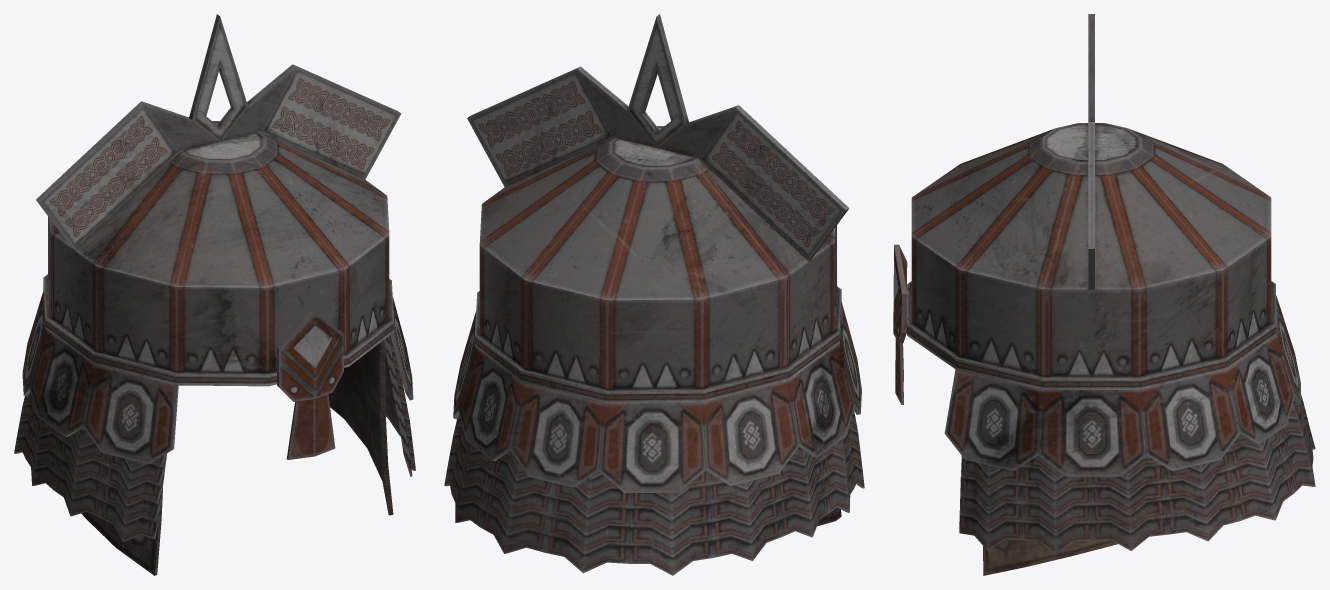
The model's file is sk_dwarf_iron_helmet_elite_a4.fbx.
3 renders of one model, left to right at view 1: azimuth 30°, elevation 25°; view 2: azimuth 150°, elevation 25°; view 3: azimuth 270°, elevation 25°, orthographic. The views are drawn at different scales.
Visible parts, largest first — view 1: sk_dwarf_iron_helmet_elite_a4.1, sk_dwarf_iron_helmet_elite_a4.0; view 2: sk_dwarf_iron_helmet_elite_a4.1, sk_dwarf_iron_helmet_elite_a4.0; view 3: sk_dwarf_iron_helmet_elite_a4.1, sk_dwarf_iron_helmet_elite_a4.0.
Boxes of the visible parts, bbox=[...] form: sk_dwarf_iron_helmet_elite_a4.1: bbox=[36, 14, 401, 575]; sk_dwarf_iron_helmet_elite_a4.0: bbox=[14, 291, 415, 541]; sk_dwarf_iron_helmet_elite_a4.1: bbox=[467, 14, 849, 526]; sk_dwarf_iron_helmet_elite_a4.0: bbox=[444, 302, 864, 575]; sk_dwarf_iron_helmet_elite_a4.1: bbox=[893, 14, 1275, 575]; sk_dwarf_iron_helmet_elite_a4.0: bbox=[944, 295, 1315, 553].
Size of the model in its own units: 0.3245 by 0.3205 by 0.4204.
